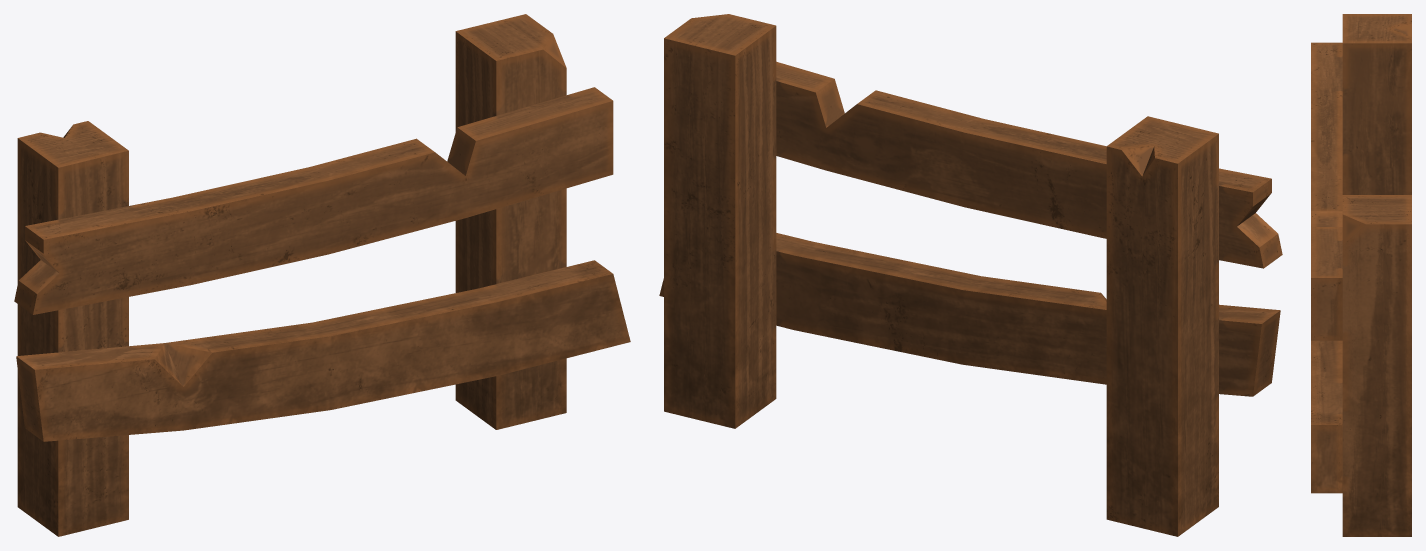
File: FenceTip2.fbx
3 views of the same model, side by side, from view 1: azimuth 30°, elevation 25°; view 2: azimuth 150°, elevation 25°; view 3: azimuth 270°, elevation 25° (orthographic). The views are drawn at different scales.
Visible parts, largest first — view 1: Fence_Tip_2; view 2: Fence_Tip_2; view 3: Fence_Tip_2.
Boxes of the visible parts, x1,y1,x2,y2 form: Fence_Tip_2: [14, 14, 630, 536]; Fence_Tip_2: [659, 14, 1282, 536]; Fence_Tip_2: [1311, 14, 1411, 536].
Size of the model in its own units: 220 by 130 by 37.94.
